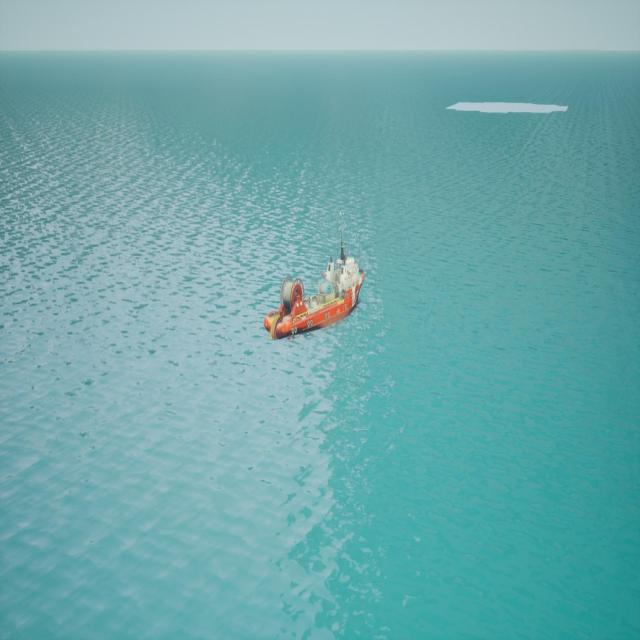tug boat: (266, 232, 369, 344)
